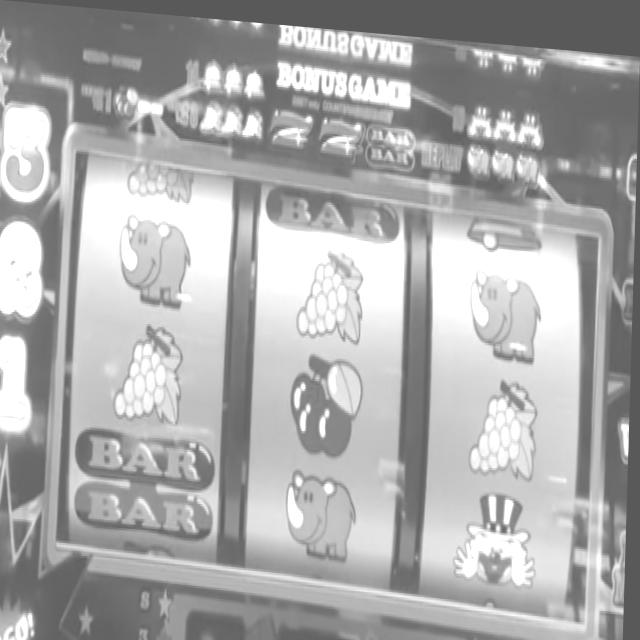bar: (76, 425, 222, 541), (266, 174, 402, 235), (367, 110, 416, 164)
bell: (466, 206, 547, 246), (202, 53, 224, 92), (224, 56, 245, 93), (245, 63, 264, 99)
cherry: (290, 345, 367, 456), (114, 84, 140, 119)
clown: (457, 481, 540, 585), (467, 96, 494, 133), (517, 103, 542, 138), (494, 100, 516, 137)
display: (65, 142, 600, 614)
elephant: (471, 256, 545, 357), (288, 460, 360, 558), (120, 208, 192, 305)
grape: (115, 315, 186, 422), (471, 367, 539, 475), (298, 236, 368, 339), (127, 152, 196, 201), (198, 99, 223, 132), (223, 104, 244, 137), (243, 105, 264, 138)
z: (321, 109, 364, 158), (273, 100, 314, 149)
